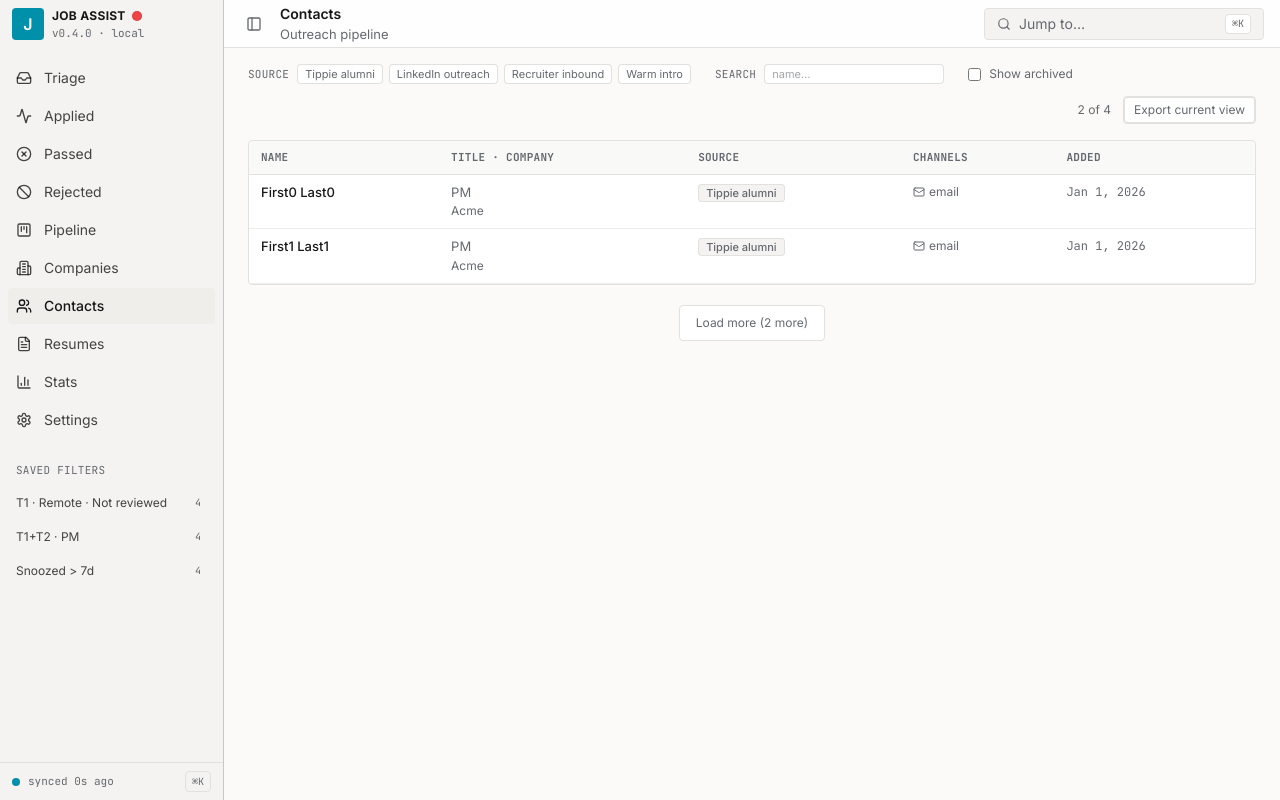
Scenario: ContactsPage pagination (fix/contacts-pagination) › Load More pages through the full set instead of capping at the first page
Expected: the text "2 of 4" is shown, [1078, 101, 1111, 119]
Click the button "Load more (2 more)" at (752, 322), box [679, 304, 825, 340]
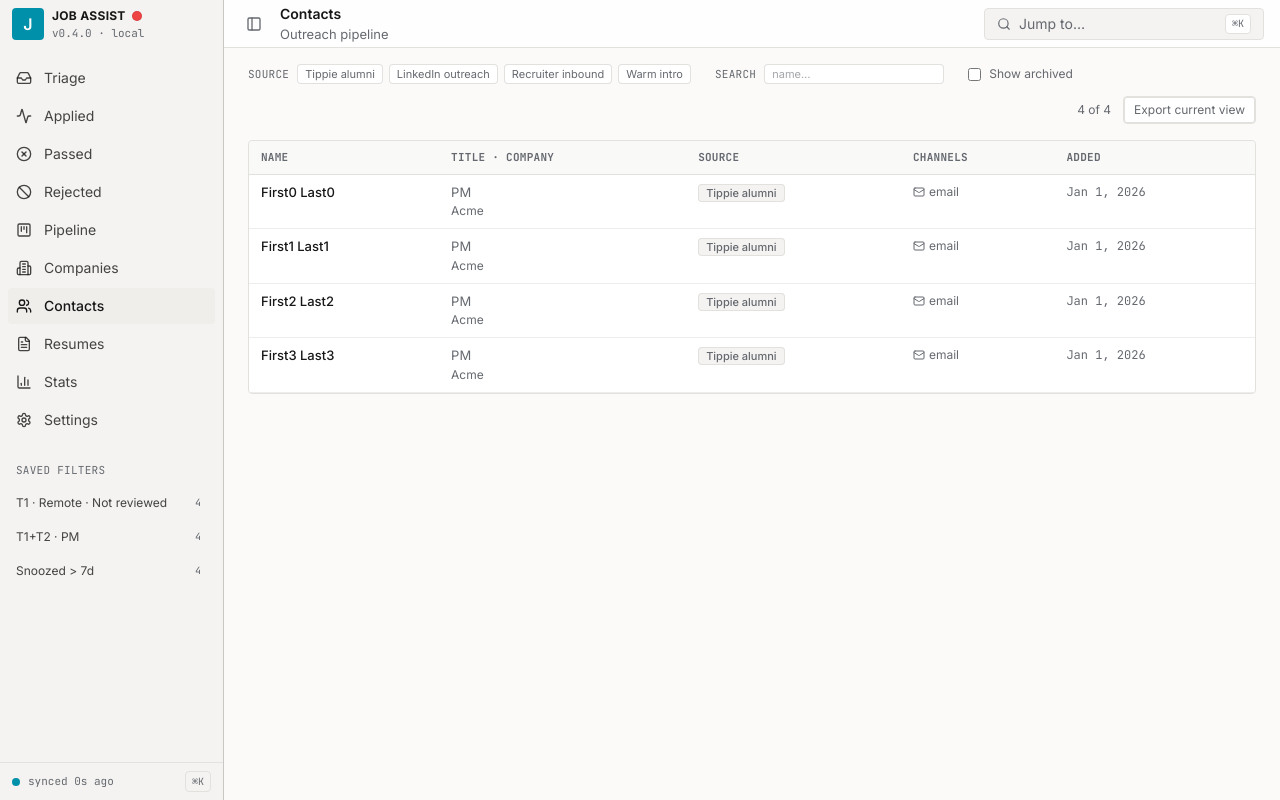
Expected: the text "4 of 4" is shown, [1077, 101, 1111, 119]
Expected: the button "Load more" is gone
